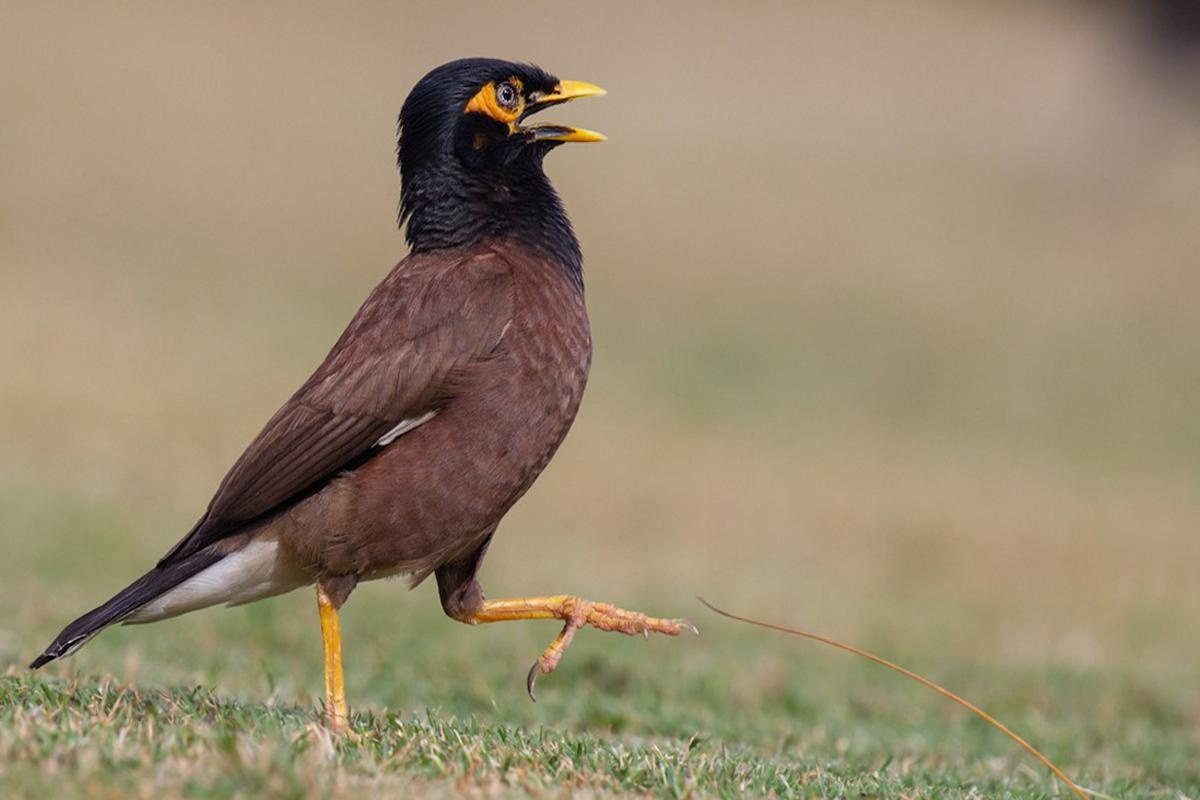myna: (175, 20, 685, 673)
